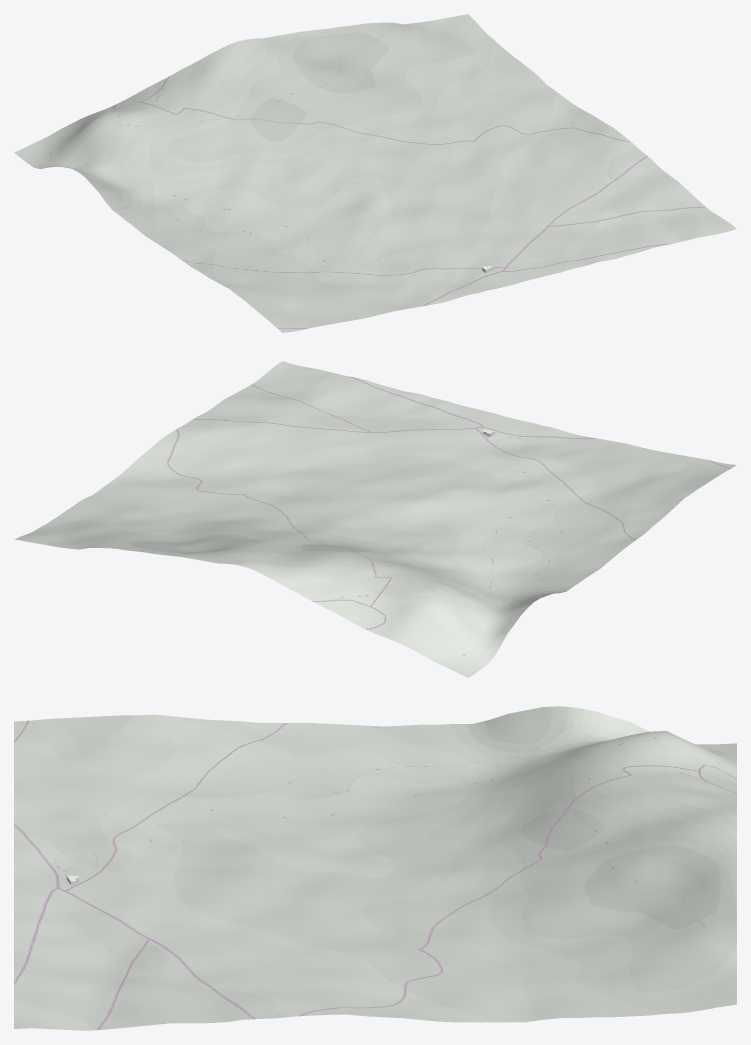
3 renders of one model, top to bottom at view 1: azimuth 30°, elevation 25°; view 2: azimuth 150°, elevation 25°; view 3: azimuth 270°, elevation 25°, orthographic. The views are drawn at different scales.
Parts seen in each view (by area): view 1: TerrainNode_0; view 2: TerrainNode_0; view 3: TerrainNode_0.
Boxes of the visible parts, x1,y1,x2,y2 form: TerrainNode_0: (14, 14, 736, 332); TerrainNode_0: (14, 361, 736, 677); TerrainNode_0: (14, 706, 736, 1030).
Bounding box in the file's own units: 1515 × 182 × 1552.
2 materials, 1 textured.
